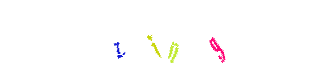G: (177, 0, 257, 80)
I: (124, 0, 204, 80)
N: (125, 0, 205, 80)
Z: (78, 0, 158, 80)
